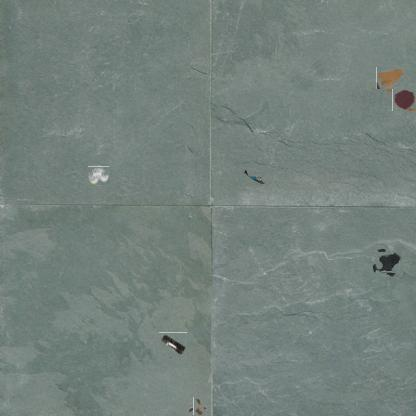dirty: (160, 332, 187, 358), (379, 65, 405, 92), (88, 165, 109, 186), (242, 168, 266, 186), (190, 400, 207, 416)
liquid: (374, 250, 400, 276), (392, 89, 415, 111)
